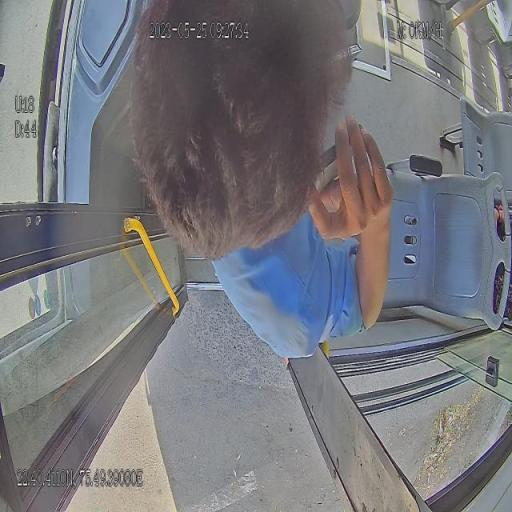persona: (128, 2, 510, 360), (128, 1, 395, 361)
